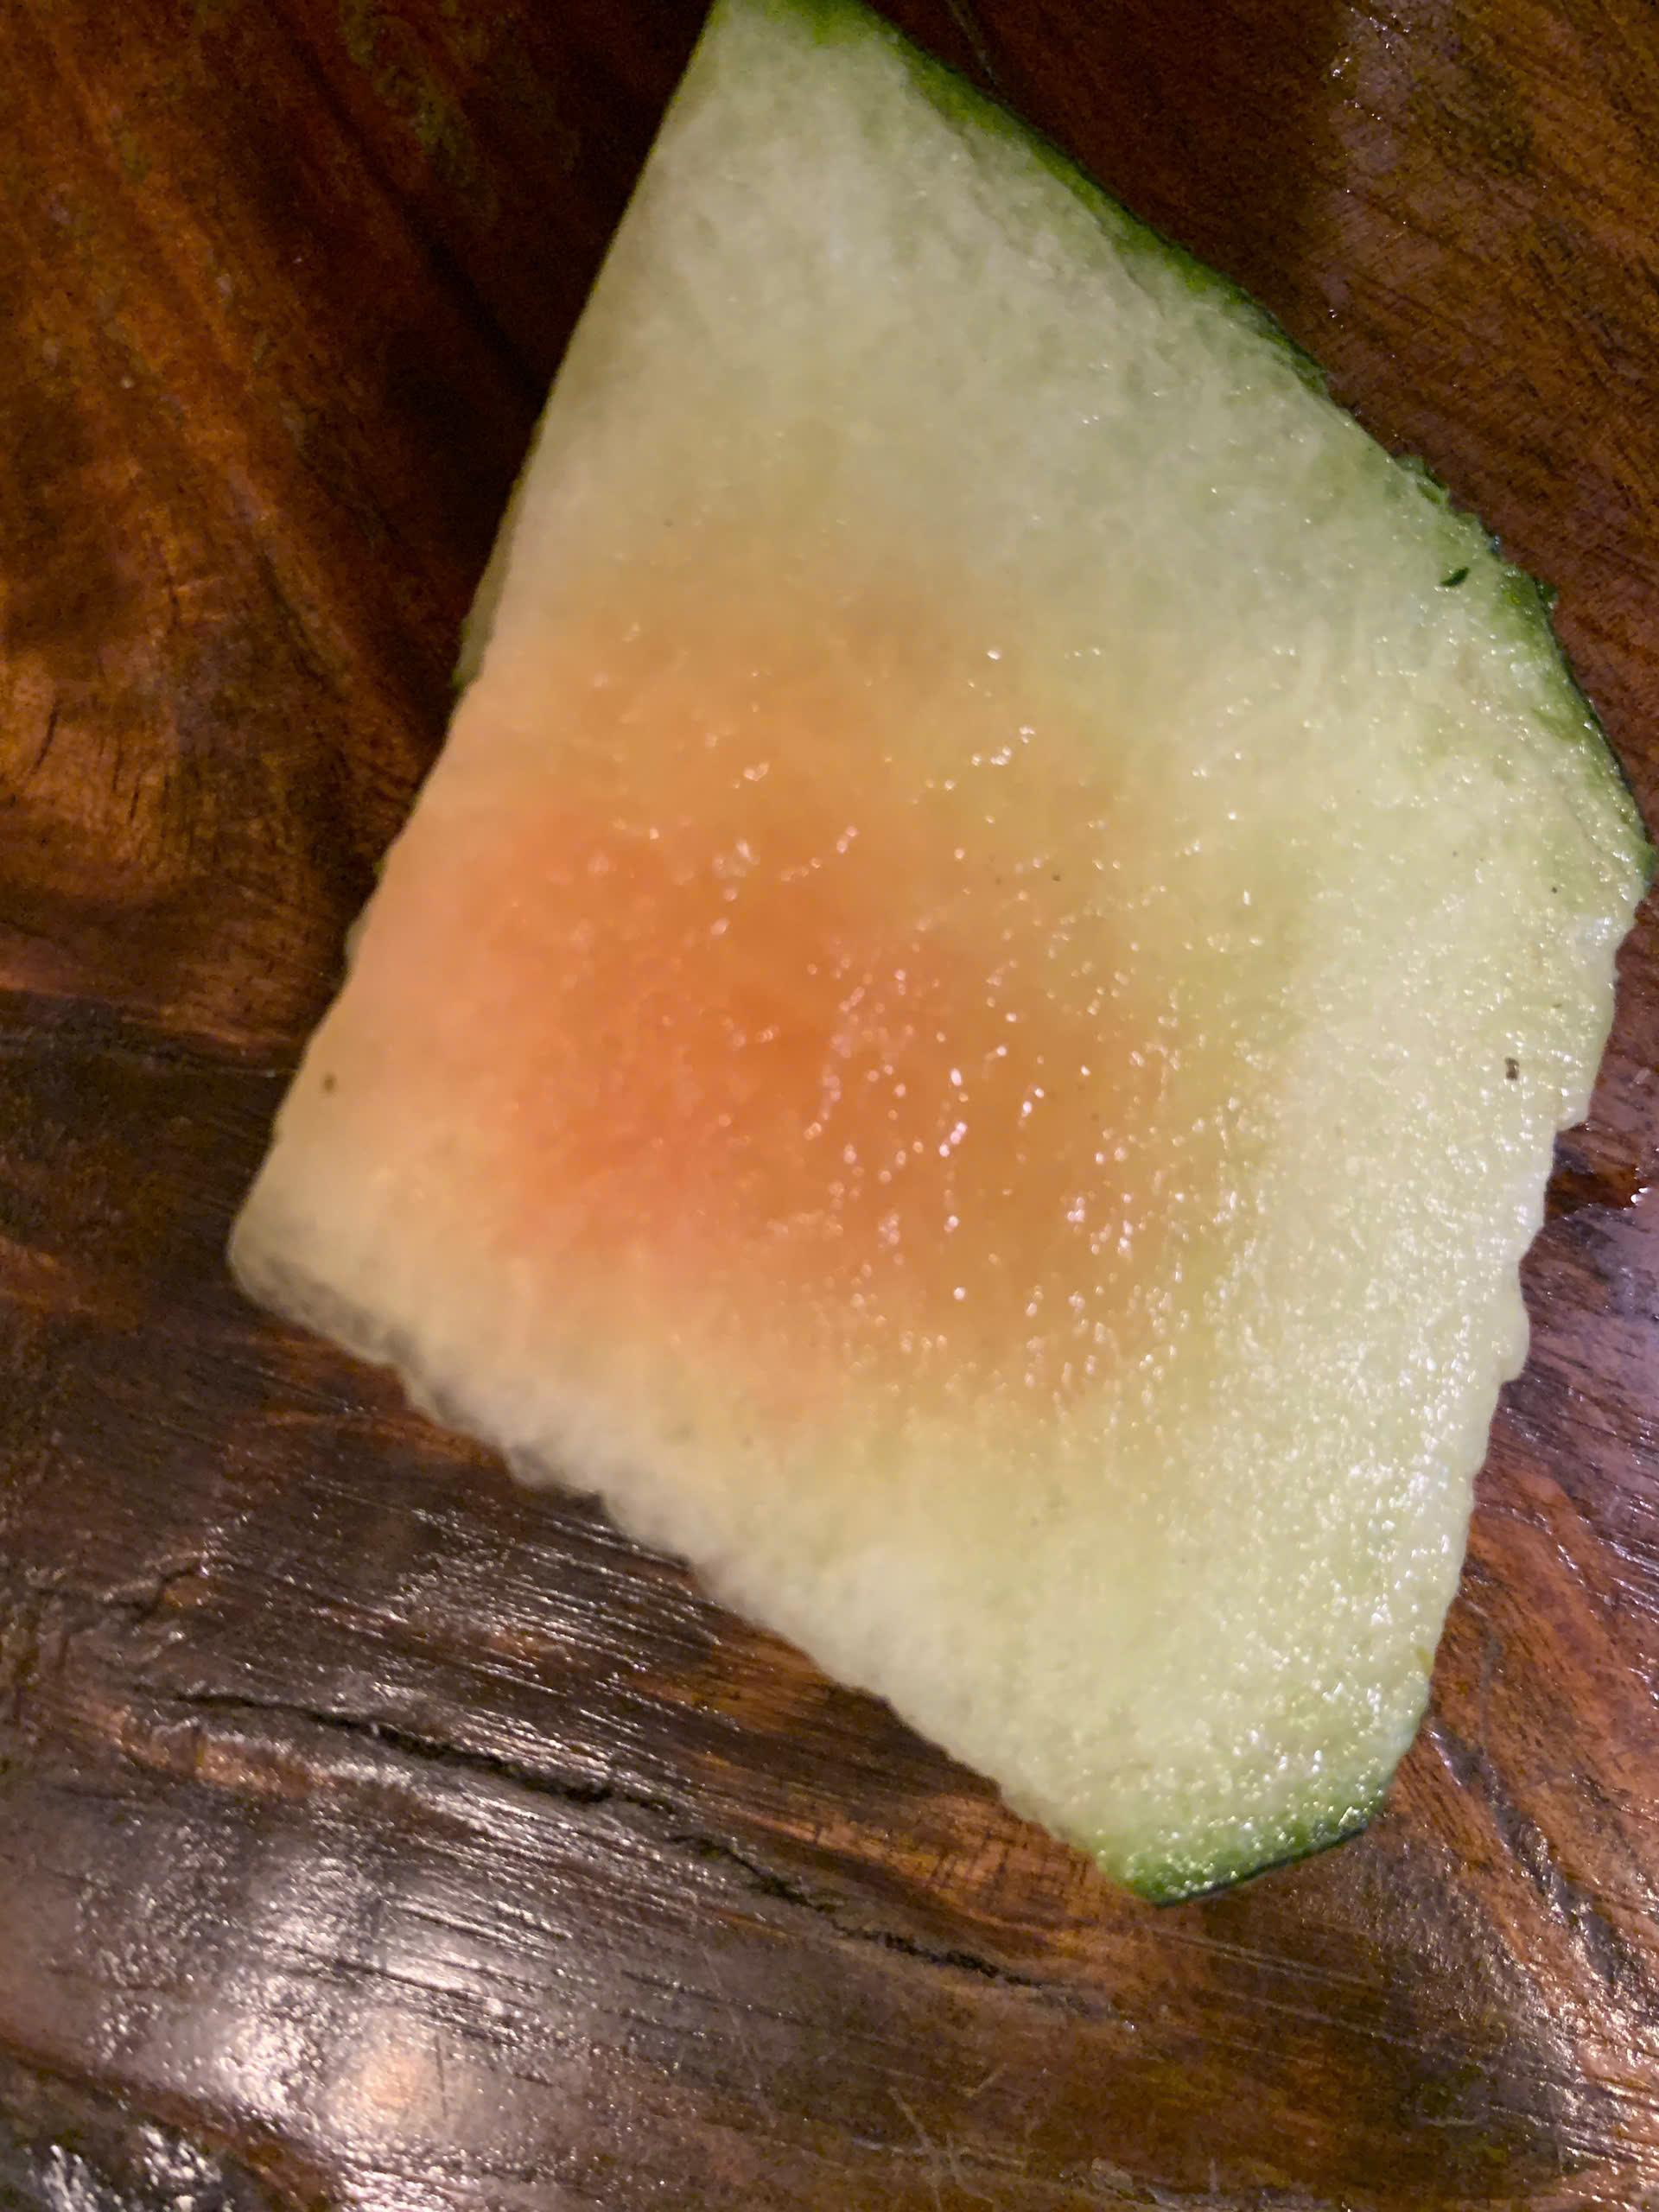Huu co: (237, 0, 1635, 1850)
